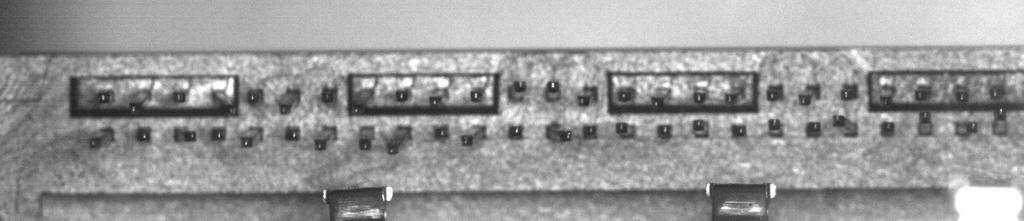pin_defect: (211, 86, 241, 119), (384, 123, 413, 157), (348, 85, 377, 118), (124, 86, 152, 117), (543, 121, 574, 145), (831, 114, 859, 140), (461, 123, 490, 148), (278, 87, 303, 115), (796, 82, 821, 107), (239, 125, 263, 150), (313, 125, 337, 150), (427, 86, 452, 109), (88, 127, 114, 149), (649, 85, 671, 110), (357, 124, 376, 152), (992, 106, 1010, 135), (577, 84, 600, 106), (724, 84, 748, 105), (507, 79, 527, 104), (877, 82, 896, 108), (953, 120, 979, 139), (173, 126, 198, 145), (917, 109, 934, 136), (544, 80, 563, 104), (766, 118, 786, 140), (615, 121, 638, 140), (913, 83, 934, 103), (581, 121, 601, 141), (840, 82, 860, 101), (988, 81, 1008, 100), (615, 86, 635, 103), (320, 85, 337, 103), (692, 119, 709, 137), (766, 84, 783, 101), (805, 120, 822, 137), (730, 122, 747, 137), (880, 120, 895, 136), (954, 87, 969, 103), (172, 89, 187, 103)
pin_ok: (469, 85, 487, 103), (246, 88, 263, 104), (285, 125, 300, 141), (136, 126, 151, 142), (508, 124, 524, 139), (433, 124, 449, 139), (657, 123, 672, 138), (692, 89, 707, 104), (210, 127, 226, 141), (96, 90, 112, 104), (395, 88, 410, 102)
